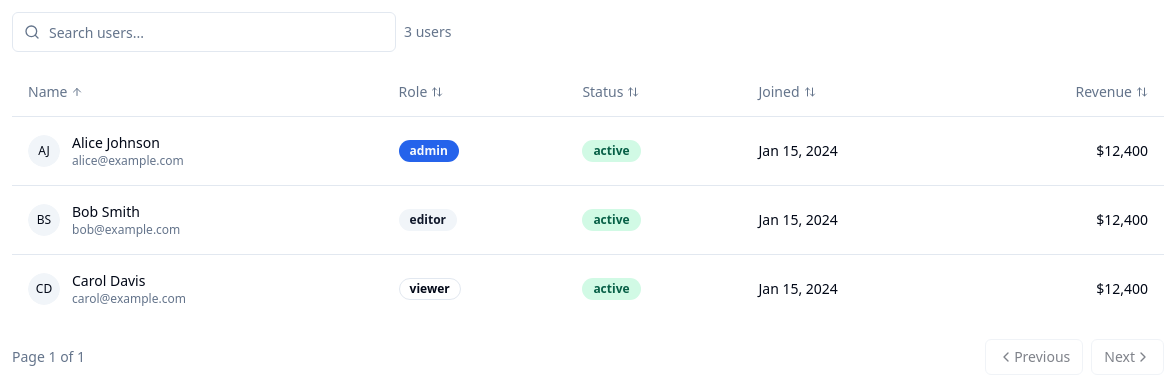
Test: DataTable › filters users by the search query
In the field with placeholder "Search users...": (204, 32) [12,12,396,52], type "bob"
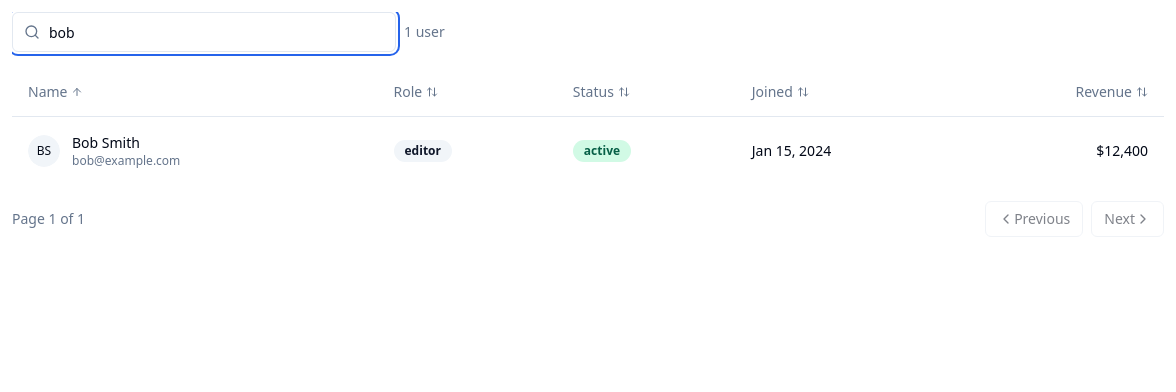
Expected: the text "Bob Smith" is shown, [72,132,140,152]
Result: the text "Alice Johnson" is gone
Result: the text "1 user" is shown at [404,22,445,42]
